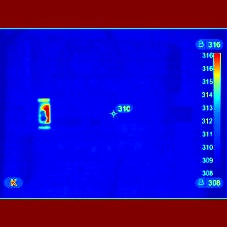Less: (40, 111, 47, 124)
